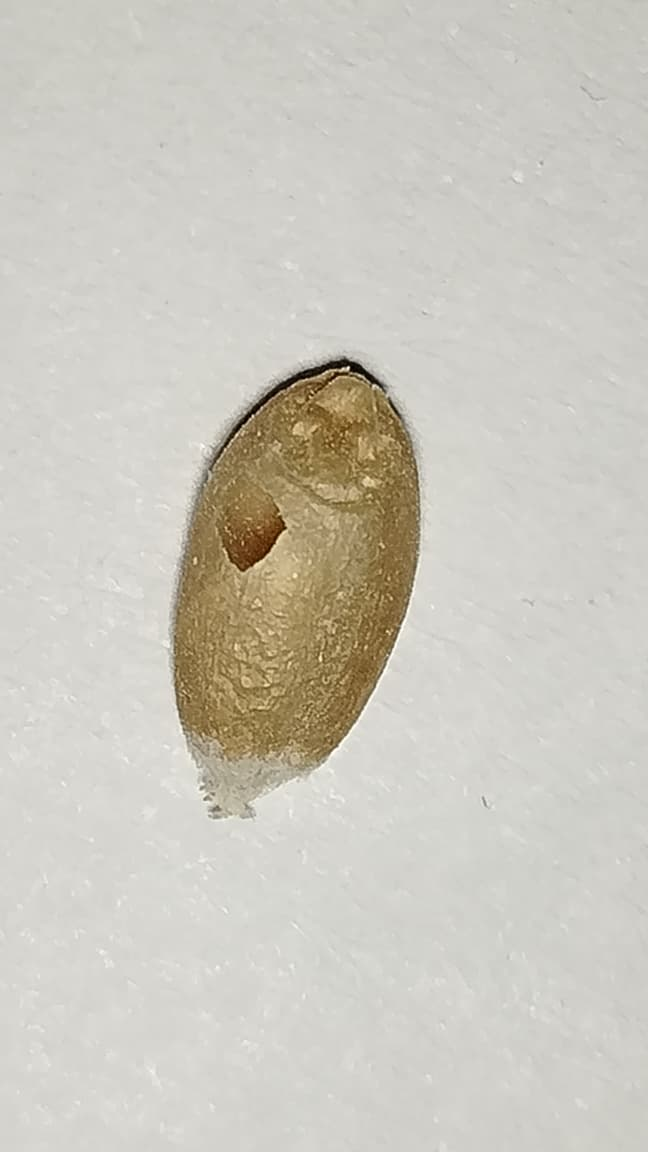damage: (177, 368, 418, 812)
insectdamage: (208, 449, 297, 599)
molddamage: (174, 728, 325, 835)
